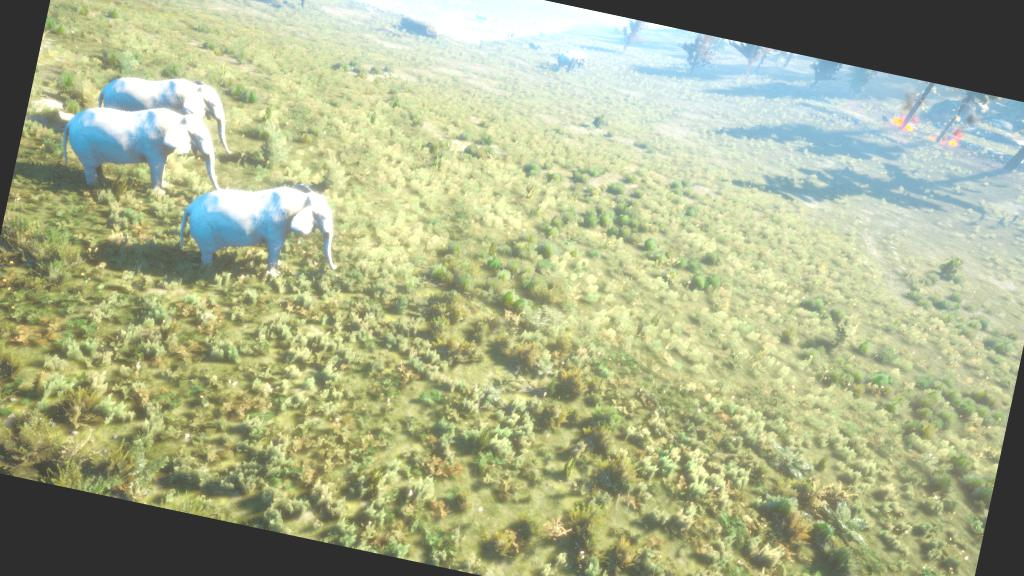Fire: (925, 116, 970, 156), (887, 108, 923, 136), (436, 11, 466, 33)
elephant: (40, 84, 226, 224), (168, 161, 354, 298), (79, 53, 254, 161), (555, 46, 589, 77)
hippopotamus: (526, 40, 544, 54)
human: (476, 40, 484, 50), (390, 2, 396, 14), (406, 7, 412, 18), (434, 11, 439, 18)
lion: (504, 29, 516, 40)
pig: (362, 6, 376, 17), (376, 5, 388, 15), (398, 10, 408, 18)
rhinoceros: (474, 10, 492, 24)
zebra: (536, 28, 550, 40)
